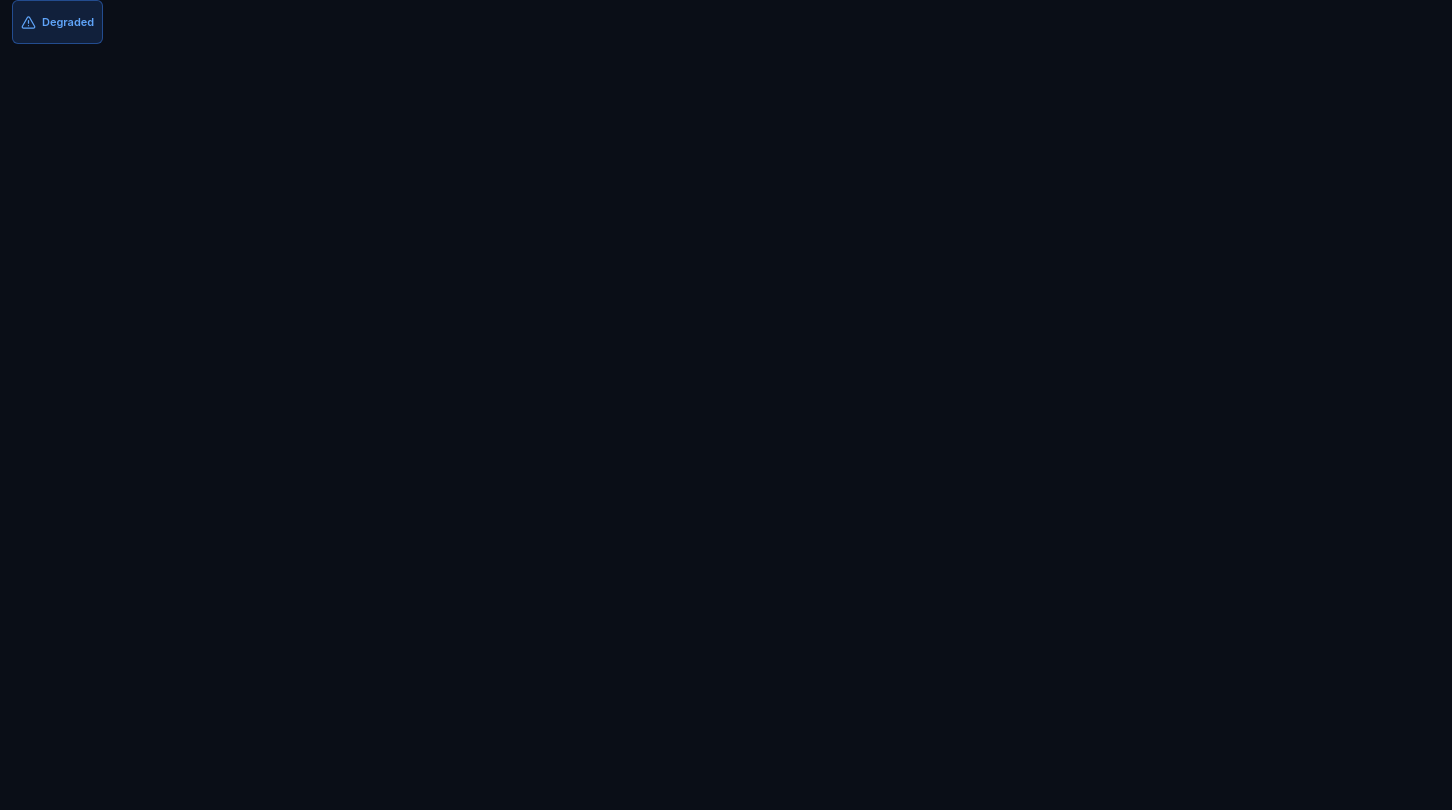
Test: DashboardHealth › distinguishes current unvalidated rows from stale raw data
The width and height of the screenshot is (1452, 810).
Click the button with aria-label "Workspace health:" at (58, 22), box [12,0,103,44]
(page scrolled)
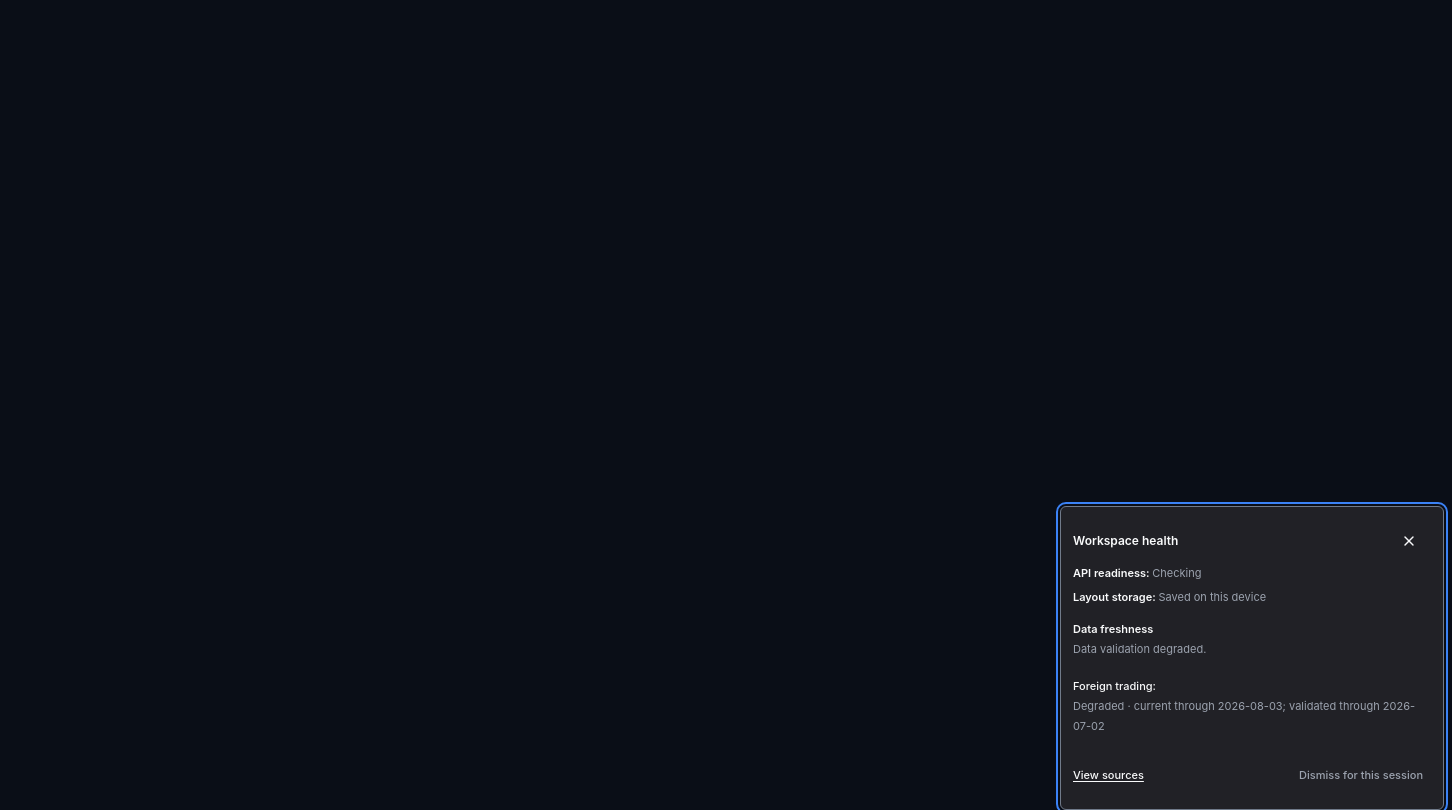
Expected: the text "current through 2026-08-03; validated through 2026-07-02" is shown, [1073,699,1415,733]
